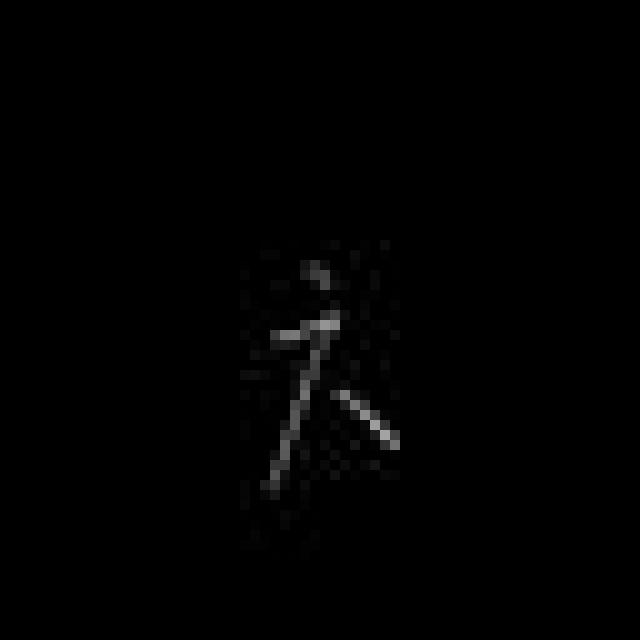6 -six-: (249, 253, 409, 497)
